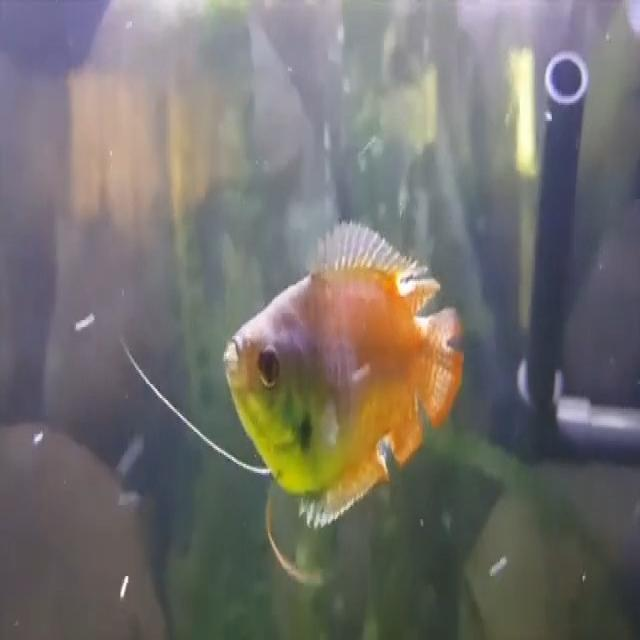fish: (220, 216, 467, 532)
